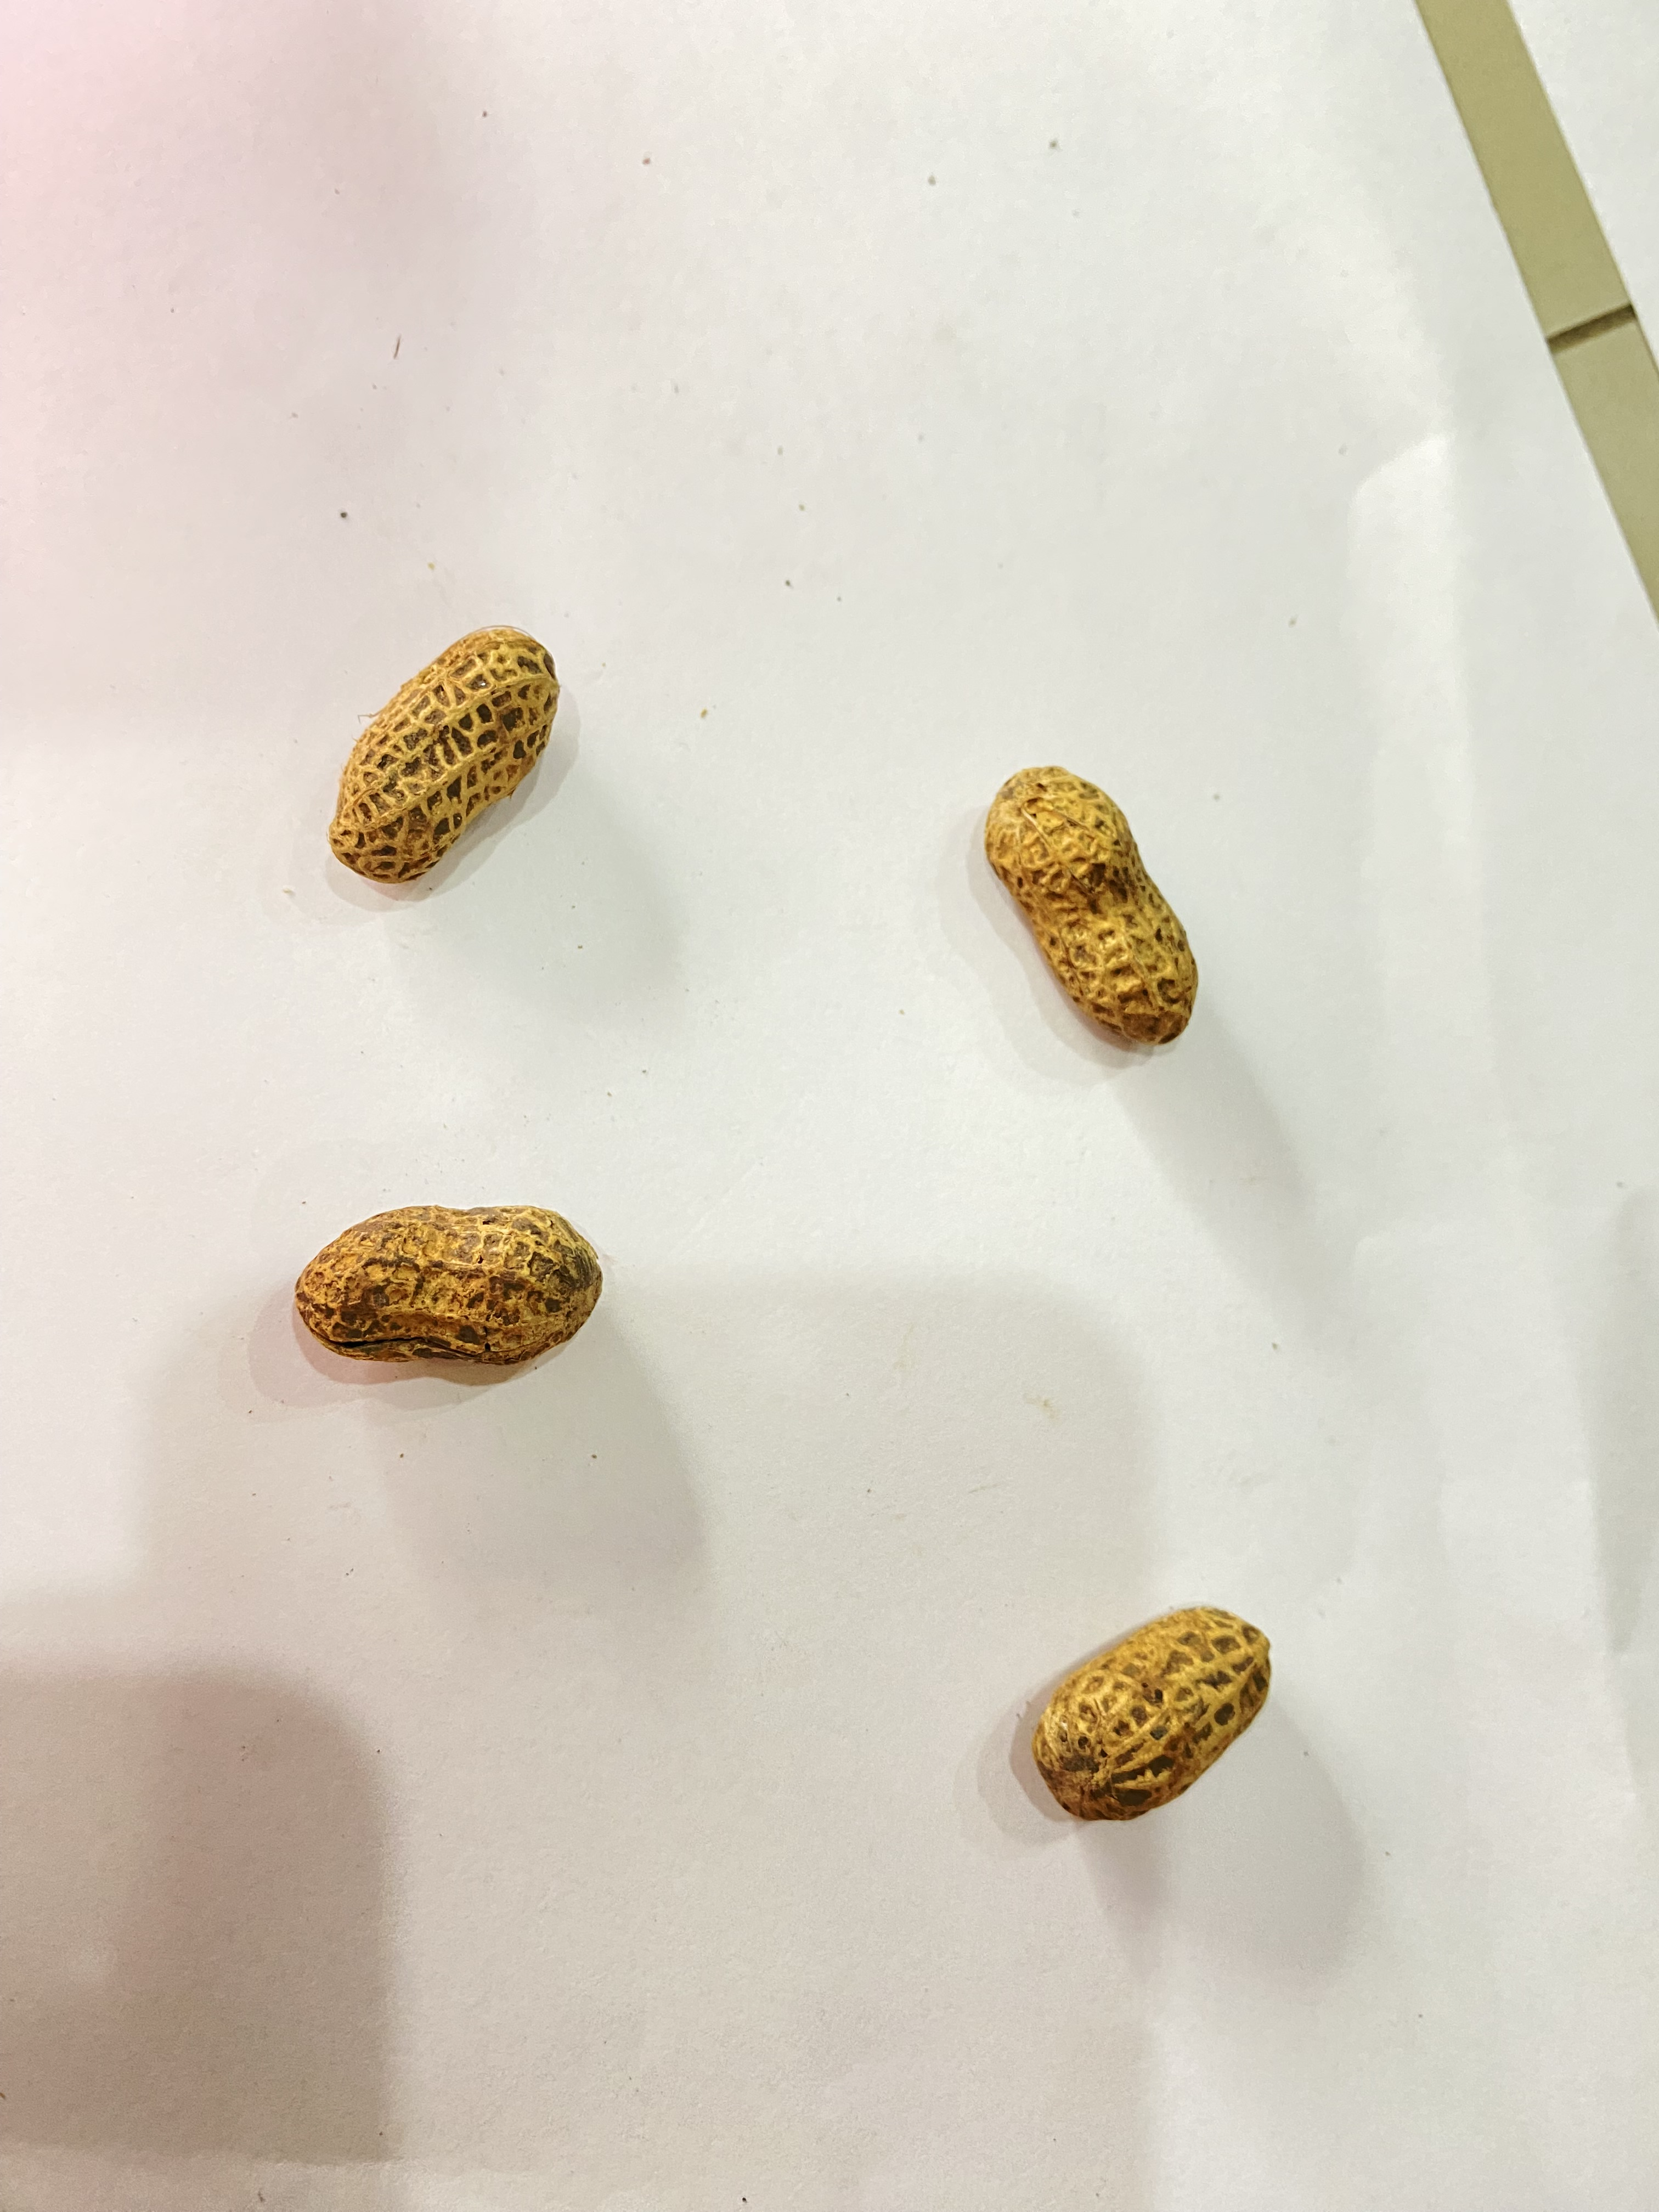kacang1: (983, 1559, 1384, 1846)
kacang2: (218, 1179, 666, 1402), (974, 749, 1236, 1089), (305, 622, 565, 913)
